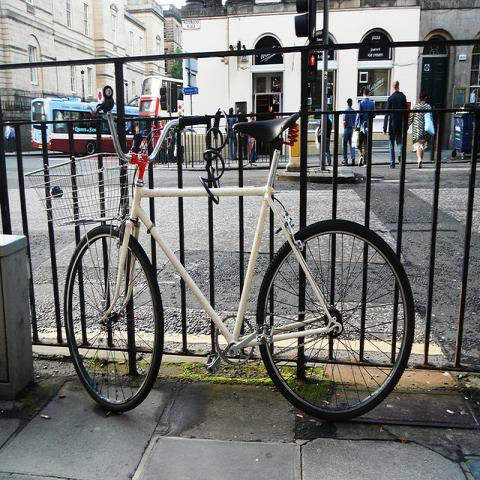bus: (27, 97, 145, 154)
